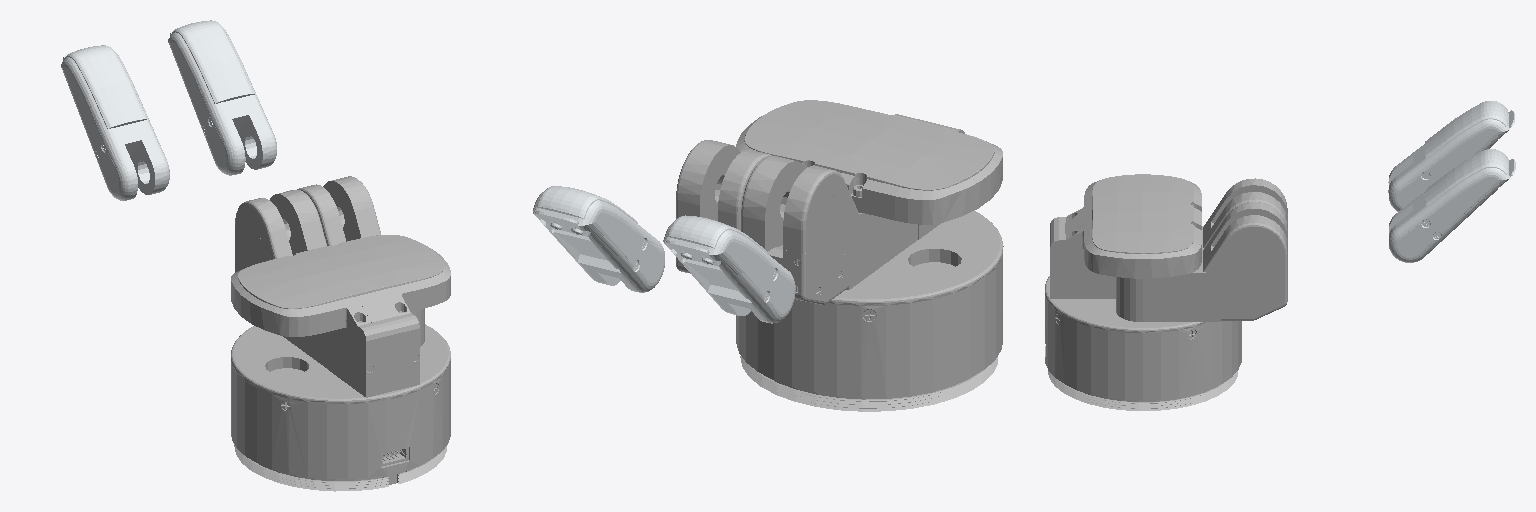
The robot description file, URDF, robot "BHD_URDF_280":
<robot
  name="BHD_URDF_280">
  <link
    name="base_link">
    <inertial>
      <origin
        xyz="-1.53444878605401E-05 0.0352882290973172 0.00277693660903533"
        rpy="0 0 0" />
      <mass
        value="0.377966381303299" />
      <inertia
        ixx="0.000427326373018601"
        ixy="-2.0290806371499E-07"
        ixz="-2.6443337984506E-07"
        iyy="0.000376798128588446"
        iyz="3.07926873276032E-05"
        izz="0.000361316175967099" />
    </inertial>
    <visual>
      <origin
        xyz="0 0 0"
        rpy="0 0 0" />
      <geometry>
        <mesh
          filename="package://BHD_URDF_280/meshes/base_link.STL" />
      </geometry>
      <material
        name="">
        <color
          rgba="0.752941176470588 0.752941176470588 0.752941176470588 1" />
      </material>
    </visual>
    <collision>
      <origin
        xyz="0 0 0"
        rpy="0 0 0" />
      <geometry>
        <mesh
          filename="package://BHD_URDF_280/meshes/base_link.STL" />
      </geometry>
    </collision>
  </link>
  <link
    name="finger0_0">
    <inertial>
      <origin
        xyz="0.0288648917008996 -9.98379746691008E-05 -0.0167746522430198"
        rpy="0 0 0" />
      <mass
        value="56143.0626955765" />
      <inertia
        ixx="10.4484040652085"
        ixy="-0.117861448219889"
        ixz="5.31613760585342"
        iyy="33.9552353012776"
        iyz="-0.078004119283751"
        izz="29.3669090518615" />
    </inertial>
    <visual>
      <origin
        xyz="0 0 0"
        rpy="0 0 0" />
      <geometry>
        <mesh
          filename="package://BHD_URDF_280/meshes/finger0_0.STL" />
      </geometry>
      <material
        name="">
        <color
          rgba="0.752941176470588 0.752941176470588 0.752941176470588 1" />
      </material>
    </visual>
    <collision>
      <origin
        xyz="0 0 0"
        rpy="0 0 0" />
      <geometry>
        <mesh
          filename="package://BHD_URDF_280/meshes/finger0_0.STL" />
      </geometry>
    </collision>
  </link>
  <joint
    name="j00"
    type="continuous">
    <origin
      xyz="0.025 0 0.0754000000000003"
      rpy="6.1232339957358E-17 -1.6775318113782E-16 1.57079632679489" />
    <parent
      link="base_link" />
    <child
      link="finger0_0" />
    <axis
      xyz="0 0 -1" />
  </joint>
  <link
    name="finger0_1">
    <inertial>
      <origin
        xyz="0.0309181761355441 0.0019693024932544 5.66301573335821E-05"
        rpy="0 0 0" />
      <mass
        value="31321.1214212939" />
      <inertia
        ixx="2.18512832127284"
        ixy="0.844484268309693"
        ixz="0.0135401272400818"
        iyy="17.3596441998536"
        iyz="0.0011266921675168"
        izz="17.7656644395659" />
    </inertial>
    <visual>
      <origin
        xyz="0 0 0"
        rpy="0 0 0" />
      <geometry>
        <mesh
          filename="package://BHD_URDF_280/meshes/finger0_1.STL" />
      </geometry>
      <material
        name="">
        <color
          rgba="0.752941176470588 0.752941176470588 0.752941176470588 1" />
      </material>
    </visual>
    <collision>
      <origin
        xyz="0 0 0"
        rpy="0 0 0" />
      <geometry>
        <mesh
          filename="package://BHD_URDF_280/meshes/finger0_1.STL" />
      </geometry>
    </collision>
  </link>
  <joint
    name="j01"
    type="continuous">
    <origin
      xyz="0.0500000000000007 0.000800000000002535 0"
      rpy="1.5707963267949 0 0" />
    <parent
      link="finger0_0" />
    <child
      link="finger0_1" />
    <axis
      xyz="0 0 1" />
  </joint>
  <link
    name="finger0_2">
    <inertial>
      <origin
        xyz="0.0253322571839626 0.00167106362872826 0.000102872216676222"
        rpy="0 0 0" />
      <mass
        value="19342.3312257343" />
      <inertia
        ixx="1.3063001219566"
        ixy="0.244495902363993"
        ixz="-0.047646347358492"
        iyy="6.45563111007668"
        iyz="-0.00299703369478935"
        izz="5.99395386650427" />
    </inertial>
    <visual>
      <origin
        xyz="0 0 0"
        rpy="0 0 0" />
      <geometry>
        <mesh
          filename="package://BHD_URDF_280/meshes/finger0_2.STL" />
      </geometry>
      <material
        name="">
        <color
          rgba="0.898039215686275 0.917647058823529 0.929411764705882 1" />
      </material>
    </visual>
    <collision>
      <origin
        xyz="0 0 0"
        rpy="0 0 0" />
      <geometry>
        <mesh
          filename="package://BHD_URDF_280/meshes/finger0_2.STL" />
      </geometry>
    </collision>
  </link>
  <joint
    name="j02"
    type="continuous">
    <origin
      xyz="0.069935684739622 0.00299999999999999 0.000200000000004415"
      rpy="-3.77533479986348E-14 -4.45260733378639E-14 0.698131700822416" />
    <parent
      link="finger0_1" />
    <child
      link="finger0_2" />
    <axis
      xyz="0 0 1" />
  </joint>
  <link
    name="finger1_0">
    <inertial>
      <origin
        xyz="0.0287663539170761 -9.98379746692049E-05 -0.016943075668142"
        rpy="0 0 0" />
      <mass
        value="56143.0626955765" />
      <inertia
        ixx="10.3869077355928"
        ixy="-0.118315354672022"
        ixz="5.20520111305201"
        iyy="33.9552353012776"
        iyz="-0.0773139085196087"
        izz="29.4284053814771" />
    </inertial>
    <visual>
      <origin
        xyz="0 0 0"
        rpy="0 0 0" />
      <geometry>
        <mesh
          filename="package://BHD_URDF_280/meshes/finger1_0.STL" />
      </geometry>
      <material
        name="">
        <color
          rgba="0.752941176470588 0.752941176470588 0.752941176470588 1" />
      </material>
    </visual>
    <collision>
      <origin
        xyz="0 0 0"
        rpy="0 0 0" />
      <geometry>
        <mesh
          filename="package://BHD_URDF_280/meshes/finger1_0.STL" />
      </geometry>
    </collision>
  </link>
  <joint
    name="j10"
    type="continuous">
    <origin
      xyz="-0.025 0 0.0754000000000004"
      rpy="6.12333858895703E-17 -0.00584484835748164 1.5707963267949" />
    <parent
      link="base_link" />
    <child
      link="finger1_0" />
    <axis
      xyz="-0.00584481507867448 0 -0.999982918922466" />
  </joint>
  <link
    name="finger1_1">
    <inertial>
      <origin
        xyz="0.0309181761449676 0.00196930210221453 5.66301859537509E-05"
        rpy="0 0 0" />
      <mass
        value="31321.1215499126" />
      <inertia
        ixx="2.18512832967327"
        ixy="0.844484155951962"
        ixz="0.0135401335439361"
        iyy="17.3596442221312"
        iyz="0.00112673821434557"
        izz="17.7656644132238" />
    </inertial>
    <visual>
      <origin
        xyz="0 0 0"
        rpy="0 0 0" />
      <geometry>
        <mesh
          filename="package://BHD_URDF_280/meshes/finger1_1.STL" />
      </geometry>
      <material
        name="">
        <color
          rgba="0.752941176470588 0.752941176470588 0.752941176470588 1" />
      </material>
    </visual>
    <collision>
      <origin
        xyz="0 0 0"
        rpy="0 0 0" />
      <geometry>
        <mesh
          filename="package://BHD_URDF_280/meshes/finger1_1.STL" />
      </geometry>
    </collision>
  </link>
  <joint
    name="j11"
    type="continuous">
    <origin
      xyz="0.0499991459461259 0.000799999999999367 -0.000292240753933679"
      rpy="1.5707963267949 0 -4.93038065763132E-32" />
    <parent
      link="finger1_0" />
    <child
      link="finger1_1" />
    <axis
      xyz="0 0 1" />
  </joint>
  <link
    name="finger1_2">
    <inertial>
      <origin
        xyz="0.0253322572246781 0.00167106357335601 0.000102872216738801"
        rpy="0 0 0" />
      <mass
        value="19342.3313295693" />
      <inertia
        ixx="1.30630012953801"
        ixy="0.244495900353316"
        ixz="-0.0476463484401415"
        iyy="6.45563113593989"
        iyz="-0.00299704033698799"
        izz="5.99395390717116" />
    </inertial>
    <visual>
      <origin
        xyz="0 0 0"
        rpy="0 0 0" />
      <geometry>
        <mesh
          filename="package://BHD_URDF_280/meshes/finger1_2.STL" />
      </geometry>
      <material
        name="">
        <color
          rgba="0.898039215686275 0.917647058823529 0.929411764705882 1" />
      </material>
    </visual>
    <collision>
      <origin
        xyz="0 0 0"
        rpy="0 0 0" />
      <geometry>
        <mesh
          filename="package://BHD_URDF_280/meshes/finger1_2.STL" />
      </geometry>
    </collision>
  </link>
  <joint
    name="j12"
    type="continuous">
    <origin
      xyz="0.0699356847396212 0.00300000000000347 0.000199999999999378"
      rpy="1.95799899548702E-16 2.29686057908074E-16 0.700079983587682" />
    <parent
      link="finger1_1" />
    <child
      link="finger1_2" />
    <axis
      xyz="0 0 1" />
  </joint>
  <link
    name="finger2_1">
    <inertial>
      <origin
        xyz="0.0309181761355441 0.00196930249325443 5.6630157333582E-05"
        rpy="0 0 0" />
      <mass
        value="31321.1214212939" />
      <inertia
        ixx="2.18512832127284"
        ixy="0.844484268309696"
        ixz="0.0135401272400823"
        iyy="17.3596441998537"
        iyz="0.00112669216751511"
        izz="17.7656644395659" />
    </inertial>
    <visual>
      <origin
        xyz="0 0 0"
        rpy="0 0 0" />
      <geometry>
        <mesh
          filename="package://BHD_URDF_280/meshes/finger2_1.STL" />
      </geometry>
      <material
        name="">
        <color
          rgba="0.752941176470588 0.752941176470588 0.752941176470588 1" />
      </material>
    </visual>
    <collision>
      <origin
        xyz="0 0 0"
        rpy="0 0 0" />
      <geometry>
        <mesh
          filename="package://BHD_URDF_280/meshes/finger2_1.STL" />
      </geometry>
    </collision>
  </link>
  <joint
    name="j21"
    type="continuous">
    <origin
      xyz="0.000799999999999997 -0.05 0.0754000000000003"
      rpy="1.5707963267949 -6.12303176911189E-17 -1.5707963267949" />
    <parent
      link="base_link" />
    <child
      link="finger2_1" />
    <axis
      xyz="0 0 1" />
  </joint>
  <link
    name="finger2_2">
    <inertial>
      <origin
        xyz="0.0253322571839626 0.00167106362872825 0.000102872216676229"
        rpy="0 0 0" />
      <mass
        value="19342.3312257343" />
      <inertia
        ixx="1.3063001219566"
        ixy="0.24449590236399"
        ixz="-0.0476463473584917"
        iyy="6.45563111007669"
        iyz="-0.00299703369479224"
        izz="5.99395386650428" />
    </inertial>
    <visual>
      <origin
        xyz="0 0 0"
        rpy="0 0 0" />
      <geometry>
        <mesh
          filename="package://BHD_URDF_280/meshes/finger2_2.STL" />
      </geometry>
      <material
        name="">
        <color
          rgba="0.898039215686275 0.917647058823529 0.929411764705882 1" />
      </material>
    </visual>
    <collision>
      <origin
        xyz="0 0 0"
        rpy="0 0 0" />
      <geometry>
        <mesh
          filename="package://BHD_URDF_280/meshes/finger2_2.STL" />
      </geometry>
    </collision>
  </link>
  <joint
    name="j22"
    type="continuous">
    <origin
      xyz="0.0699356847396236 0.00300000000000011 0.000199999999999993"
      rpy="5.6276902721421E-16 5.75421399737176E-16 0.698131700797743" />
    <parent
      link="finger2_1" />
    <child
      link="finger2_2" />
    <axis
      xyz="0 0 1" />
  </joint>
</robot>

--- Render facts (derived) ---
Views: 3 orthographic renders of the robot side by side, from view 1: azimuth 30°, elevation 25°; view 2: azimuth 150°, elevation 25°; view 3: azimuth 270°, elevation 25°.
Model BHD_URDF_280 with 9 links and 8 joints (8 continuous), rooted at base_link, posed all joints at 0.
Links seen in each view (by area): view 1: base_link, finger1_2, finger0_2, finger0_0; view 2: base_link, finger1_2, finger0_2, finger0_0; view 3: base_link, finger0_0, finger0_2, finger1_2.
Link boxes in pixels (left/top/right/bottom): base_link: left=231, top=190, right=450, bottom=491; finger1_2: left=61, top=45, right=169, bottom=200; finger0_2: left=168, top=20, right=276, bottom=175; finger0_0: left=297, top=176, right=424, bottom=346; base_link: left=736, top=100, right=1003, bottom=411; finger1_2: left=663, top=215, right=795, bottom=323; finger0_2: left=533, top=186, right=664, bottom=292; finger0_0: left=676, top=140, right=771, bottom=273; base_link: left=1045, top=174, right=1287, bottom=410; finger0_0: left=1116, top=202, right=1287, bottom=321; finger0_2: left=1389, top=149, right=1515, bottom=262; finger1_2: left=1388, top=101, right=1514, bottom=211.
Bounding box of the posed robot: 0.089 × 0.2121 × 0.1194 m (x, y, z).
4 mesh visuals loaded from 9 distinct referenced files (4 binary STL); not drawn: 5 (reference not matched to a file when rendering).